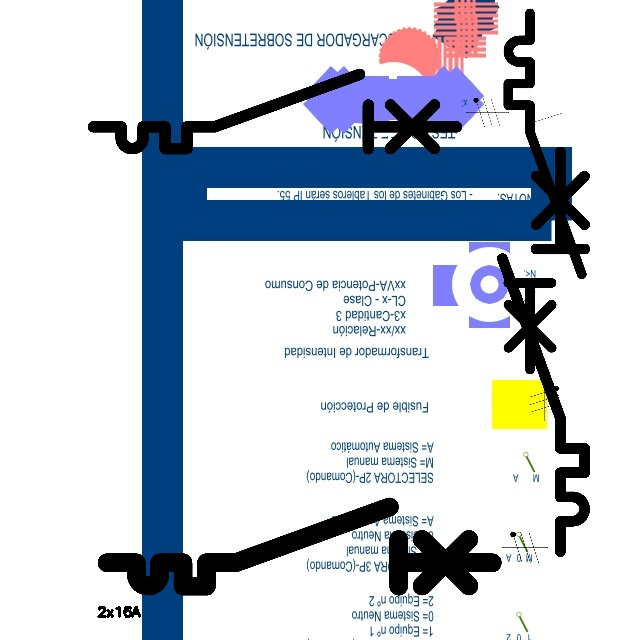interruptor_termomagnetico: (492, 141, 595, 562), (97, 497, 502, 596), (84, 65, 466, 158), (499, 4, 590, 379)
